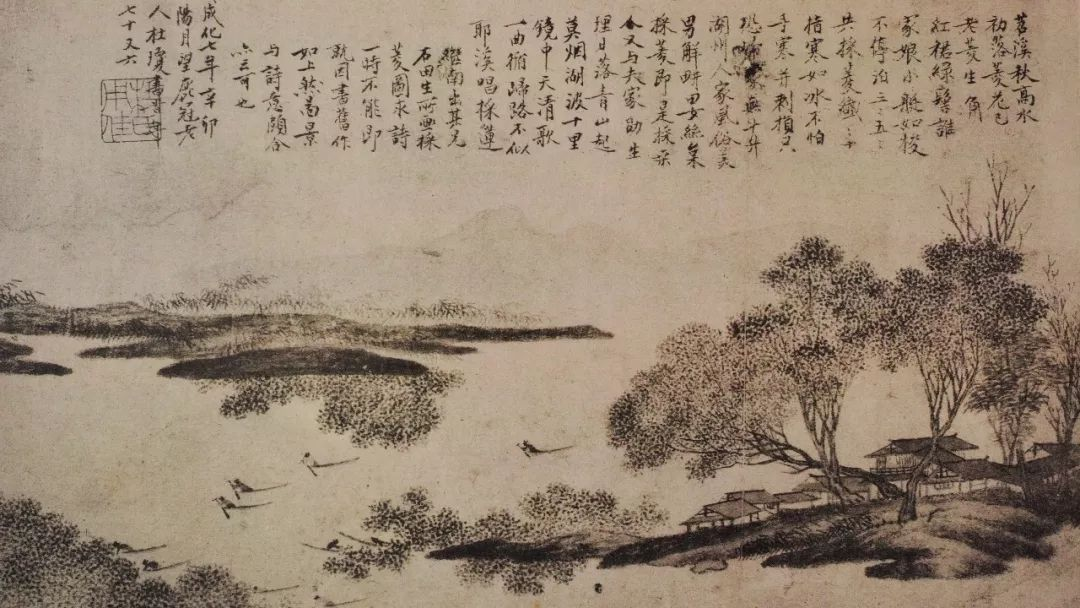bamboo: (184, 290, 546, 322)
boat: (304, 453, 360, 467), (230, 479, 288, 492), (138, 557, 190, 571), (519, 442, 574, 455), (214, 501, 272, 511), (111, 542, 175, 551), (251, 581, 298, 591), (314, 597, 363, 603), (310, 546, 364, 549)
hill: (182, 349, 420, 377), (186, 327, 609, 341), (9, 303, 145, 327)
house: (701, 491, 810, 515), (930, 454, 998, 487), (887, 444, 918, 484), (844, 483, 872, 501)
tree: (791, 255, 1014, 327), (621, 391, 785, 463), (671, 335, 845, 392), (241, 385, 457, 430), (5, 514, 107, 604), (394, 502, 637, 528), (1043, 286, 1080, 453), (953, 186, 1027, 261), (988, 353, 1034, 451), (919, 343, 977, 415), (120, 574, 245, 603), (809, 400, 840, 488), (935, 424, 947, 439)
